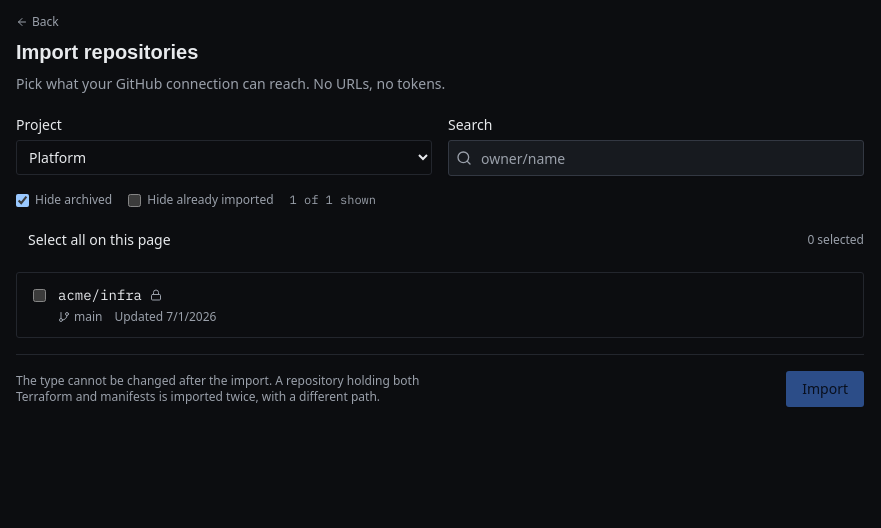
offers a monorepo as two imports, never as a mixed type
Click the checkbox named "Select acme/infra" at (40, 296), box [33,289,46,302]
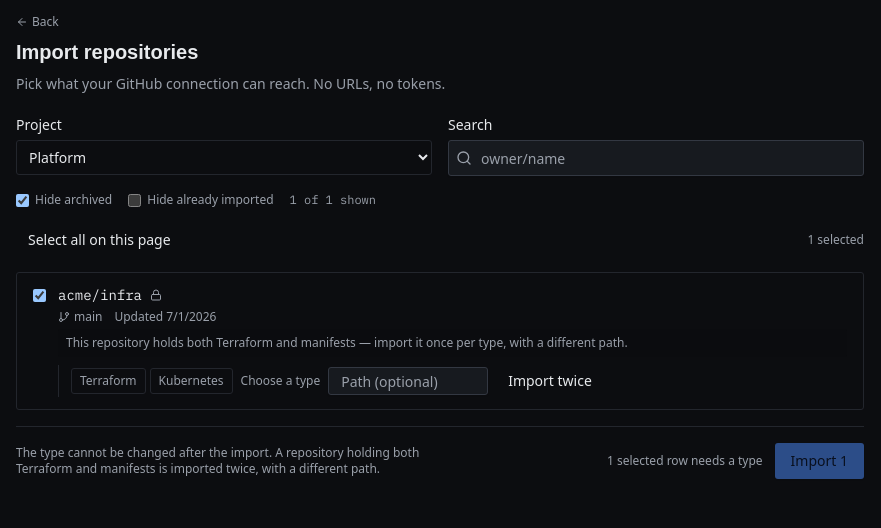
Result: the text "holds both Terraform and manifests" is shown at [66,334,628,351]
Click the button "Terraform" at (108, 381), box [71,368,146,394]
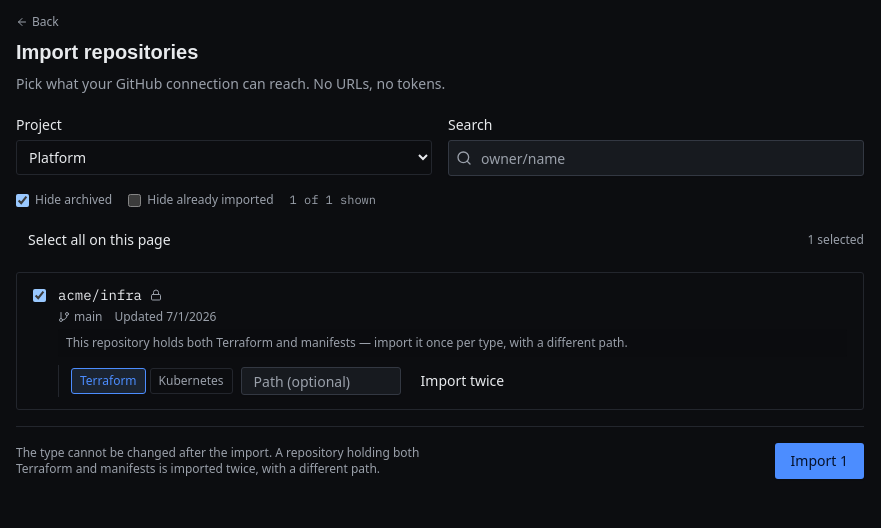
Click the button "Import twice" at (462, 381), box [409,365,516,397]
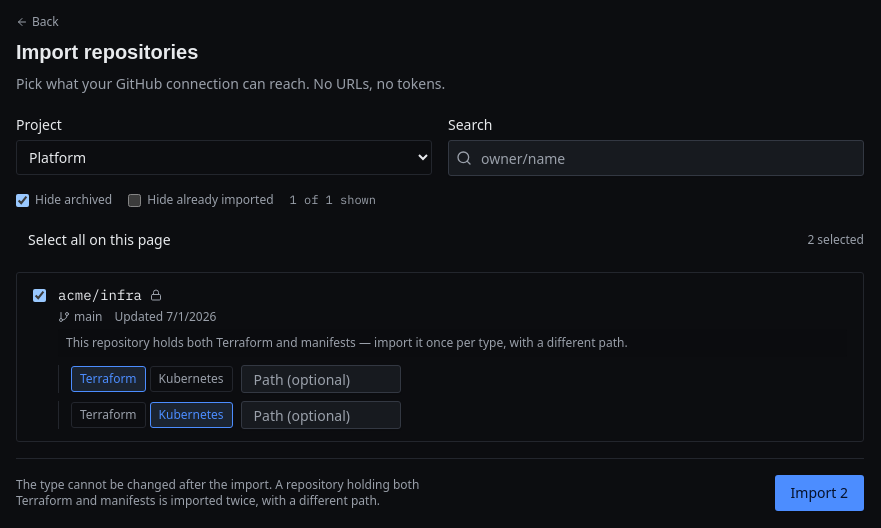
Result: the text with test id "selection-count" reads "2 selected" at [807,232,864,248]
